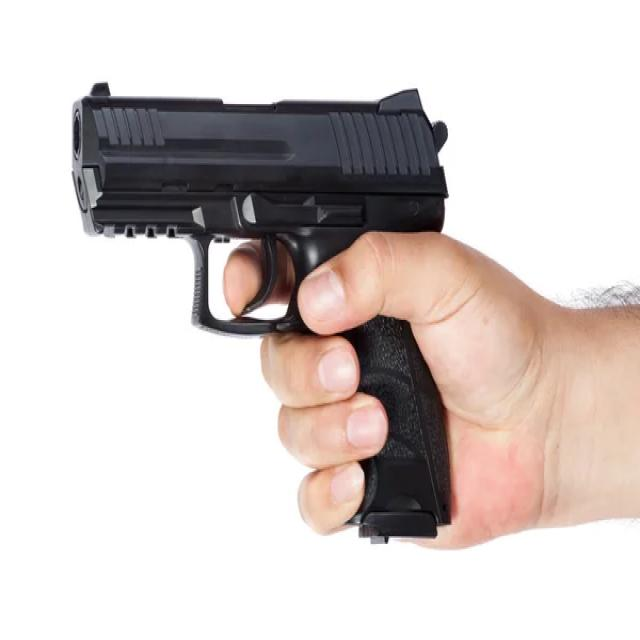handgun: (70, 78, 457, 536)
